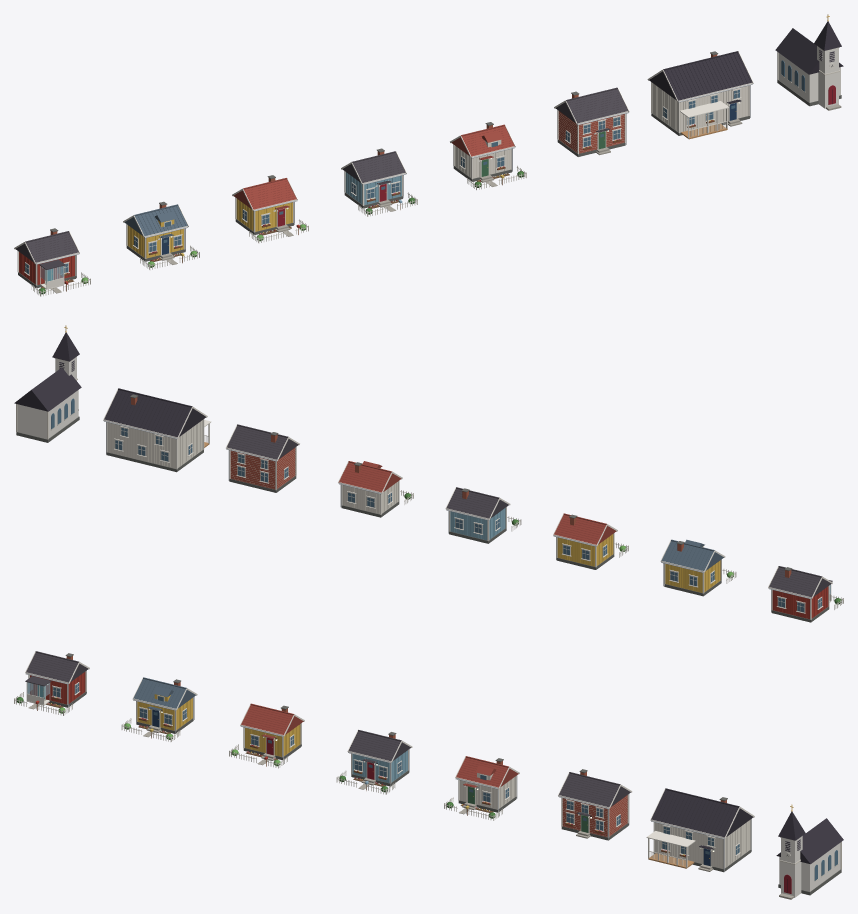
Rendered from town-houses.glb.
3 renders of one model, top to bottom at view 1: azimuth 30°, elevation 25°; view 2: azimuth 150°, elevation 25°; view 3: azimuth 330°, elevation 25°, orthographic.
Parts seen in each view (by area): view 1: House_Big_sheet_black, Church_church, House_Big_white_wall, House_Big_trim, Church_sheet_black, House_Brick_tile_dark, House_Red_tile_dark, House_Brick_brick_juni, House_Yellow_B_tile_red, House_Blue_tile_dark, House_Yellow_sheet_grey, House_White_tile_red (+12 smaller); view 2: House_Big_sheet_black, House_Big_white_wall, Church_sheet_black, Church_church, House_Brick_brick_juni, House_Brick_tile_dark, House_White_tile_red, House_Yellow_sheet_grey, House_Big_white_wall_d, House_Blue_tile_dark, House_Yellow_B_tile_red, House_Red_tile_dark (+12 smaller); view 3: House_Big_sheet_black, Church_church, House_Big_white_wall, Church_sheet_black, House_Big_trim, House_Brick_tile_dark, House_Red_tile_dark, House_Brick_brick_juni, House_Blue_tile_dark, House_Yellow_B_tile_red, House_Yellow_sheet_grey, House_White_tile_red (+12 smaller).
Boxes of the visible parts, x1,y1,x2,y2 form: House_Big_sheet_black: (649, 51, 752, 103); Church_church: (778, 46, 840, 108); House_Big_white_wall: (652, 83, 748, 132); House_Big_trim: (647, 51, 753, 138); Church_sheet_black: (775, 21, 843, 74); House_Brick_tile_dark: (555, 87, 628, 132); House_Red_tile_dark: (16, 231, 78, 269); House_Brick_brick_juni: (558, 111, 624, 153); House_Yellow_B_tile_red: (233, 178, 296, 209); House_Blue_tile_dark: (342, 151, 405, 184); House_Yellow_sheet_grey: (124, 204, 187, 238); House_White_tile_red: (451, 124, 514, 160); House_Big_sheet_black: (104, 388, 205, 437); House_Big_white_wall: (108, 420, 202, 468); Church_sheet_black: (14, 332, 81, 411); Church_church: (17, 356, 78, 438); House_Brick_brick_juni: (230, 448, 295, 489); House_Brick_tile_dark: (227, 424, 298, 459); House_White_tile_red: (338, 461, 401, 492); House_Yellow_sheet_grey: (661, 539, 723, 570); House_Big_white_wall_d: (108, 420, 202, 467); House_Blue_tile_dark: (446, 487, 508, 518); House_Yellow_B_tile_red: (554, 513, 616, 544); House_Red_tile_dark: (769, 566, 832, 597); House_Big_sheet_black: (651, 788, 753, 849); Church_church: (779, 836, 840, 897); House_Big_white_wall: (655, 820, 750, 868); Church_sheet_black: (776, 811, 843, 864); House_Big_trim: (646, 789, 754, 869); House_Brick_tile_dark: (558, 772, 630, 816); House_Red_tile_dark: (25, 651, 88, 686); House_Brick_brick_juni: (562, 795, 627, 837); House_Blue_tile_dark: (348, 730, 410, 763); House_Yellow_B_tile_red: (241, 703, 303, 738); House_Yellow_sheet_grey: (133, 677, 195, 710); House_White_tile_red: (456, 756, 518, 787).
Size of the model in its own units: 103 by 11.06 by 9.4.
